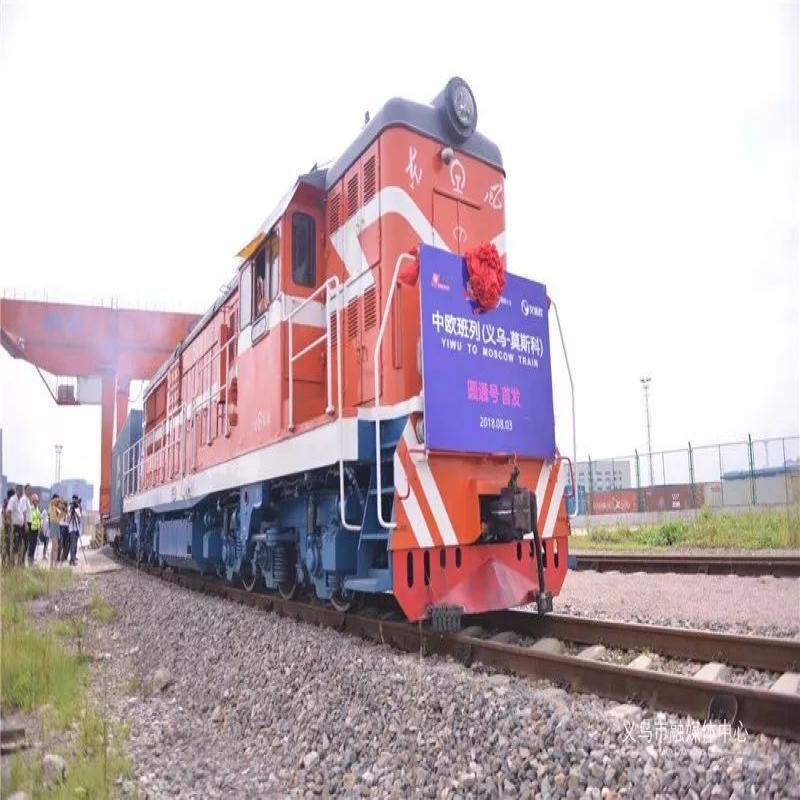train: (115, 71, 583, 630)
